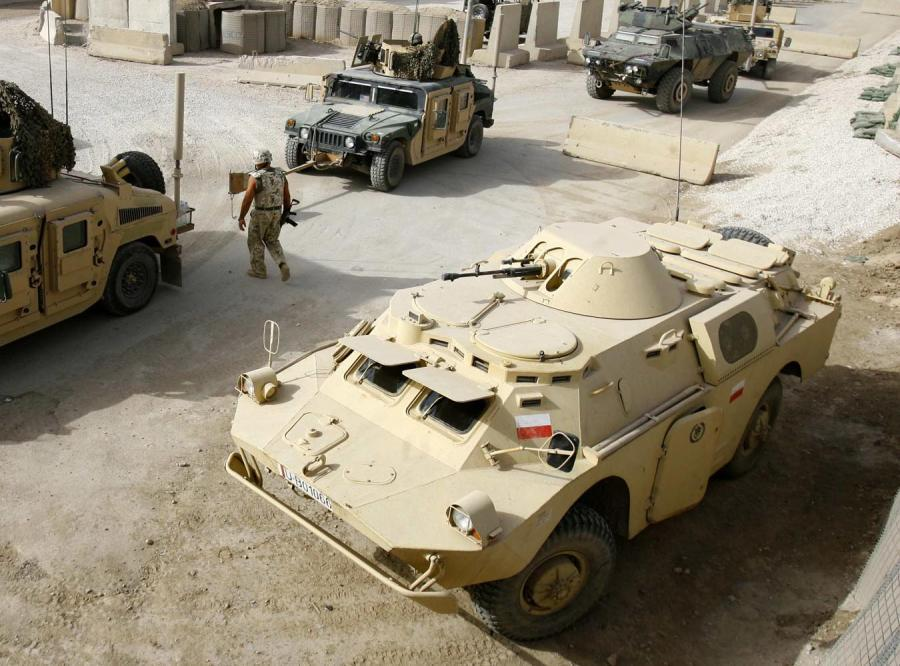armored_car: (220, 196, 856, 660), (0, 75, 188, 348), (282, 33, 498, 192), (582, 9, 754, 115)
